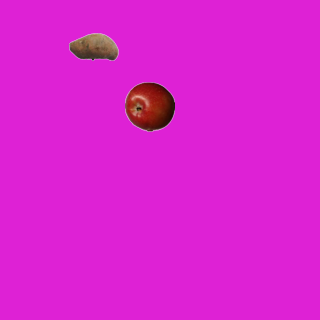Apple Braeburn: (124, 81, 174, 131)
Potato Sweet: (68, 21, 118, 71)
